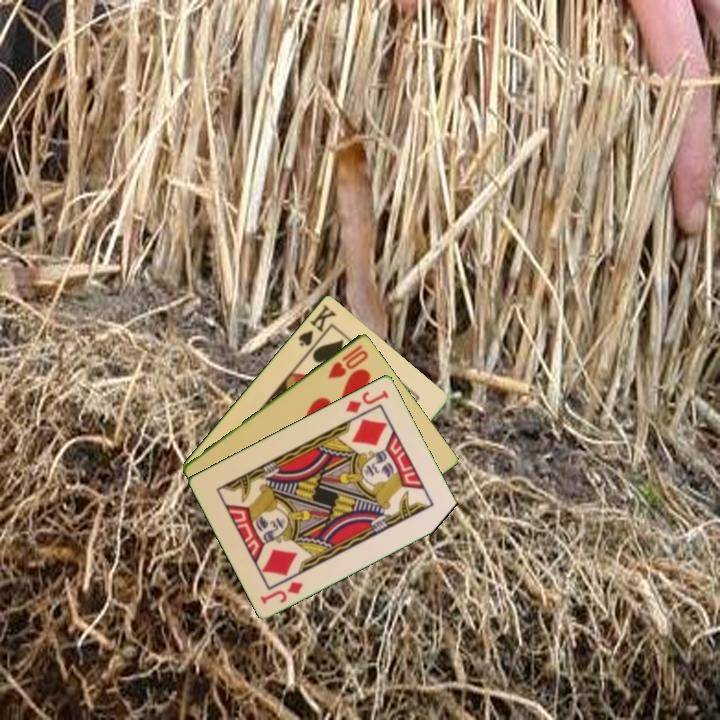10h: (324, 341, 371, 381)
Jd: (342, 386, 392, 416), (257, 577, 306, 607)
Ks: (294, 300, 339, 355)
